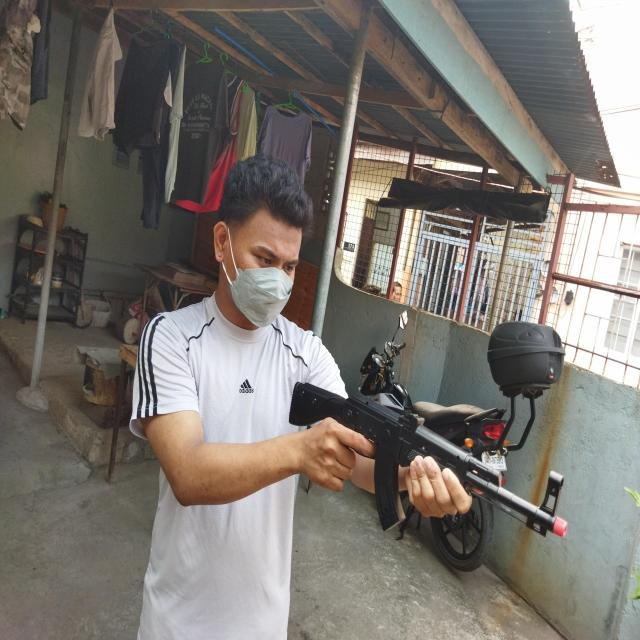rifle: (287, 382, 568, 537)
